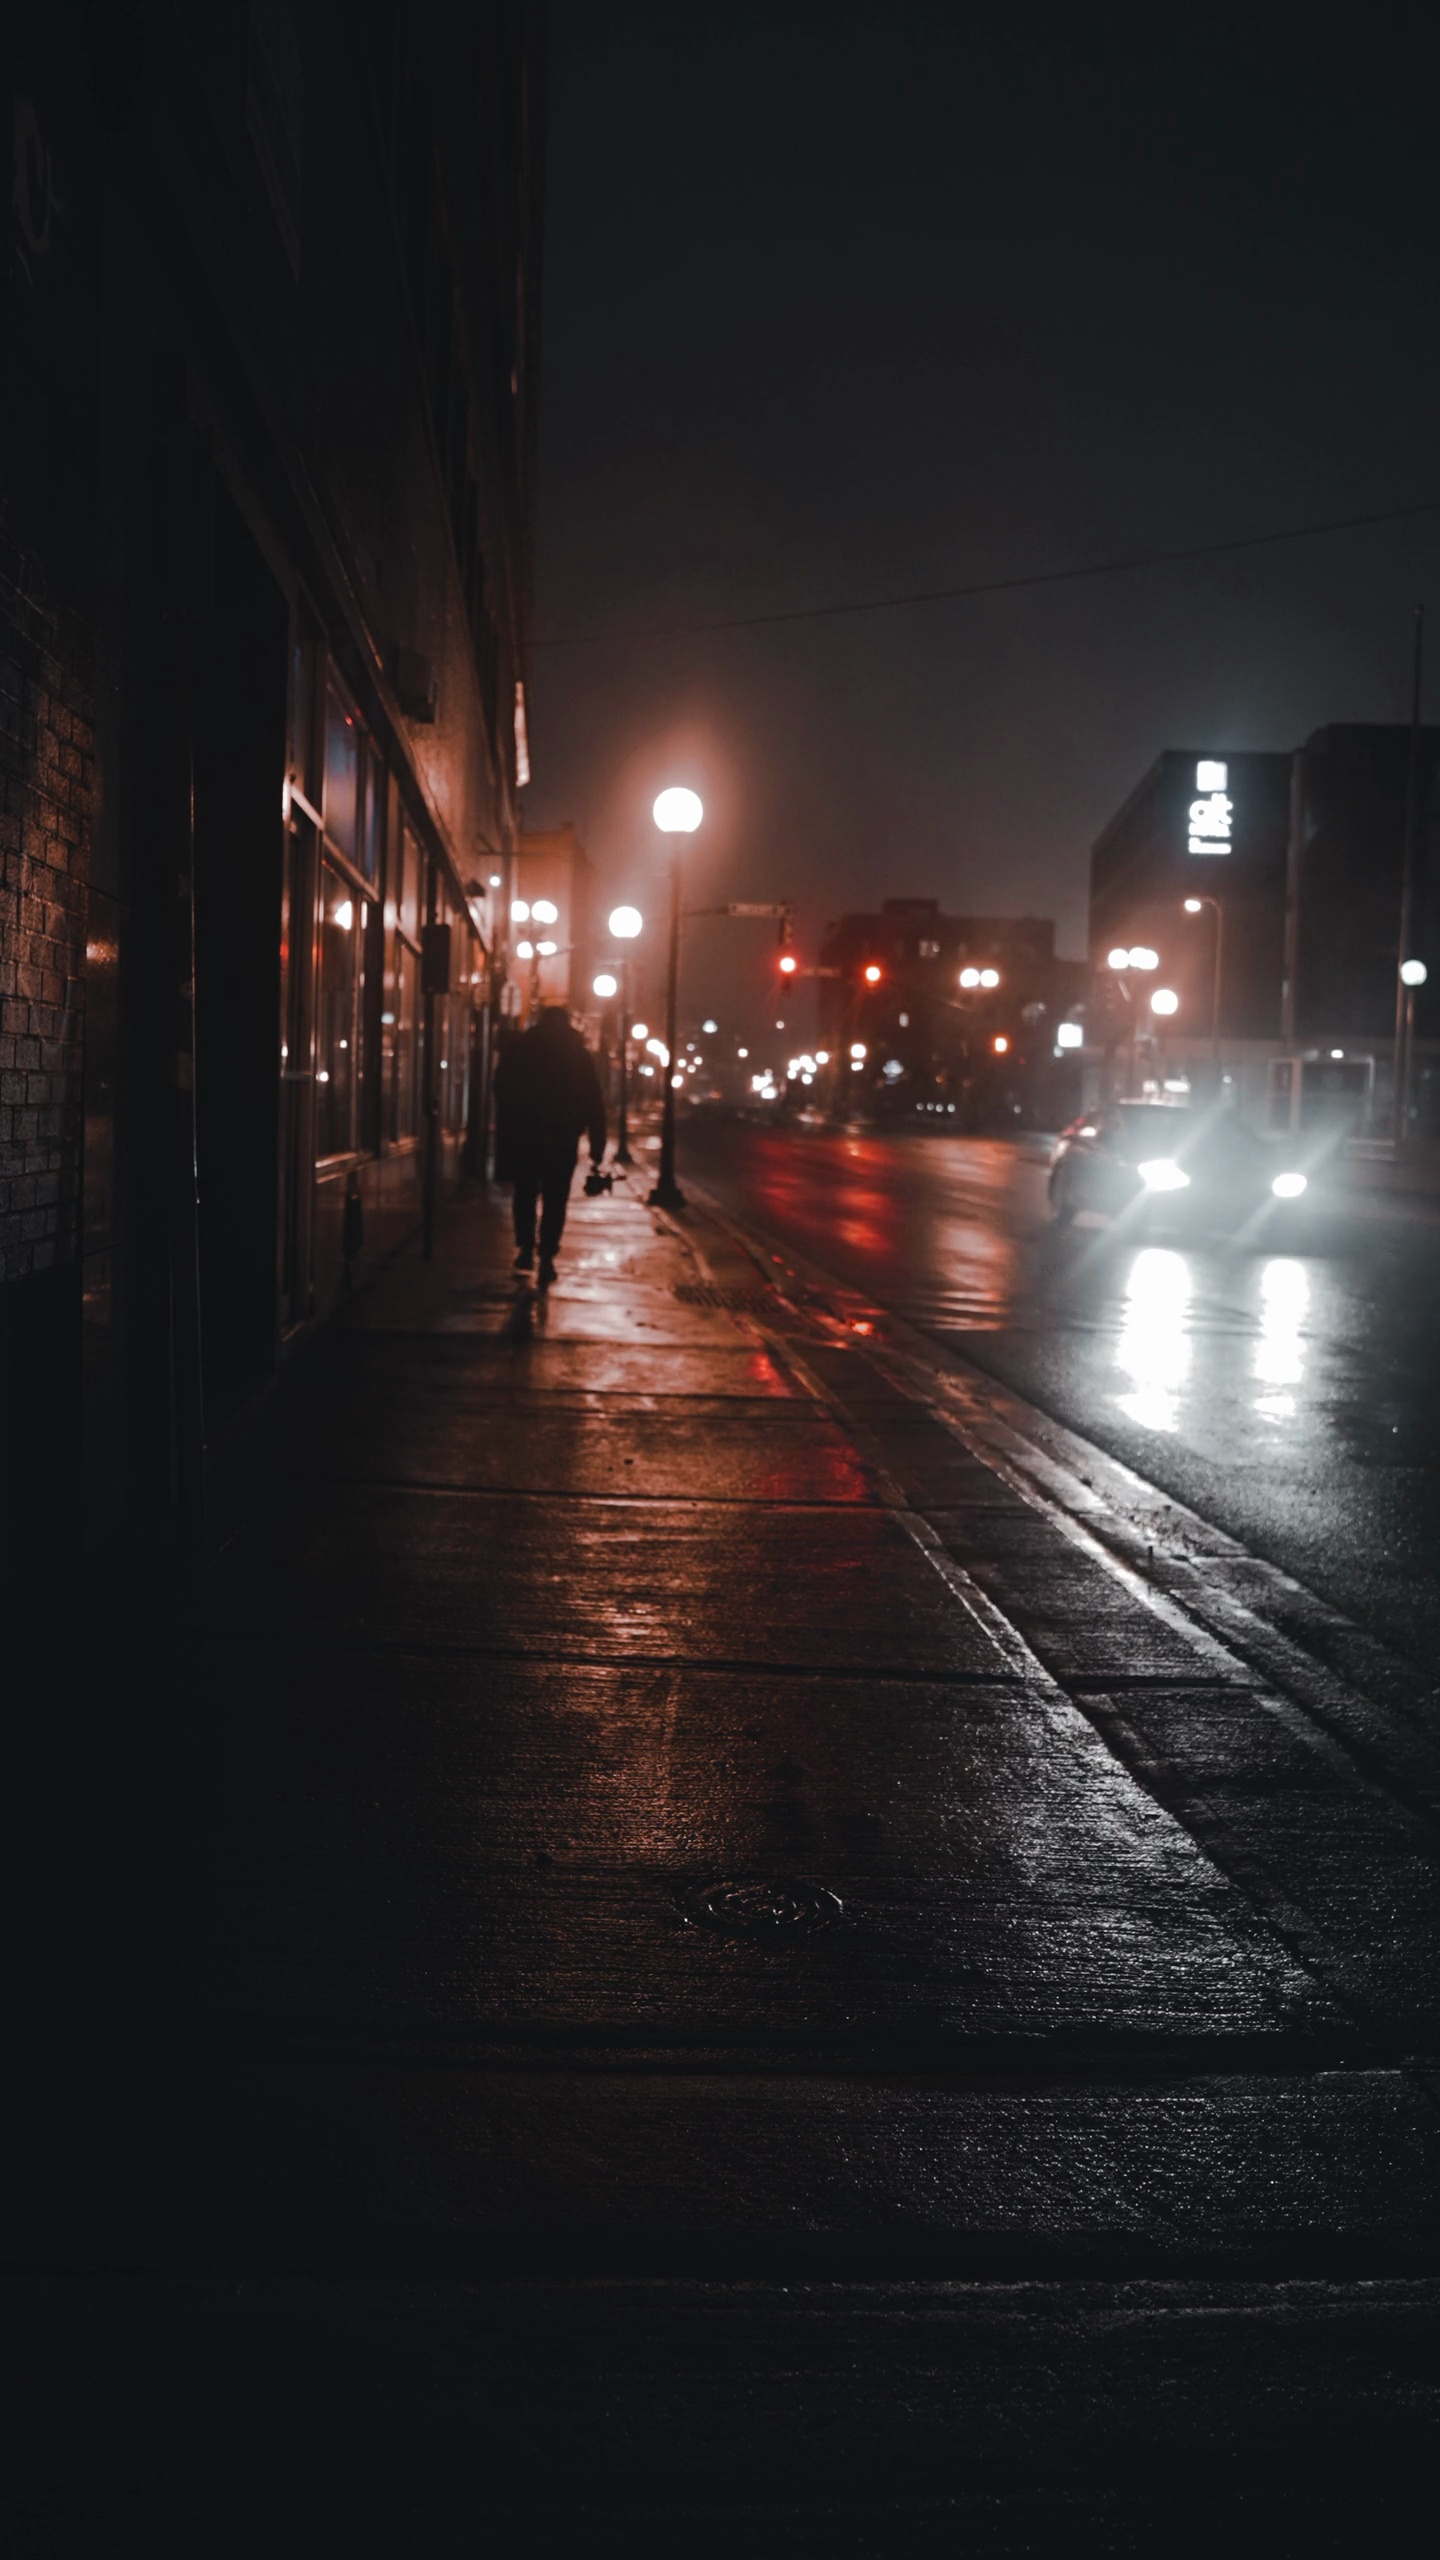person: (485, 996, 614, 1290)
